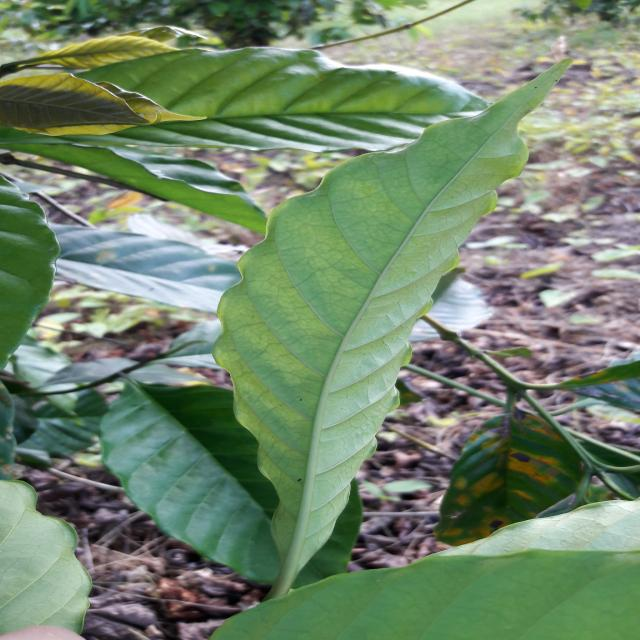Sanas: (213, 68, 563, 602)
